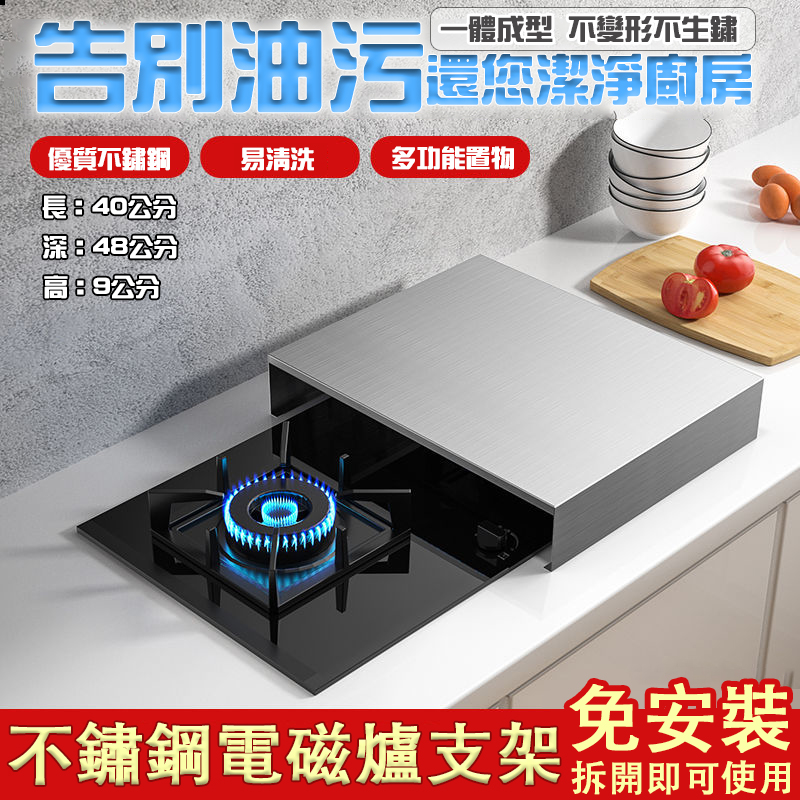gasoven: (71, 360, 647, 697)
